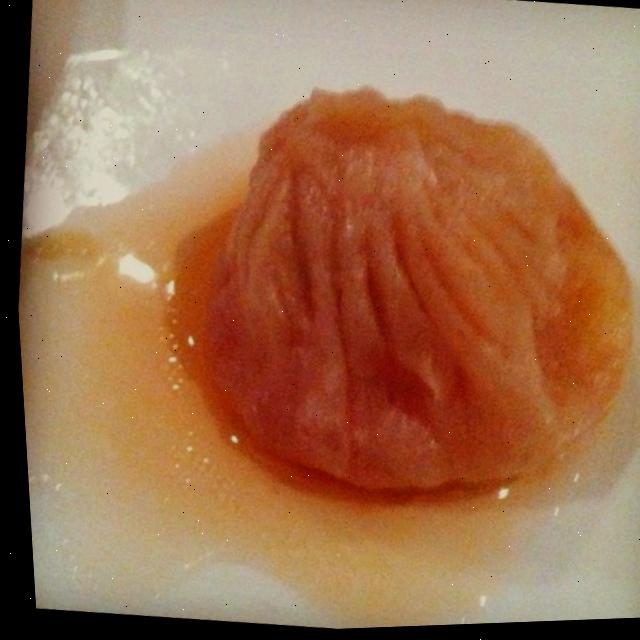带馅早点: (112, 42, 640, 556)
